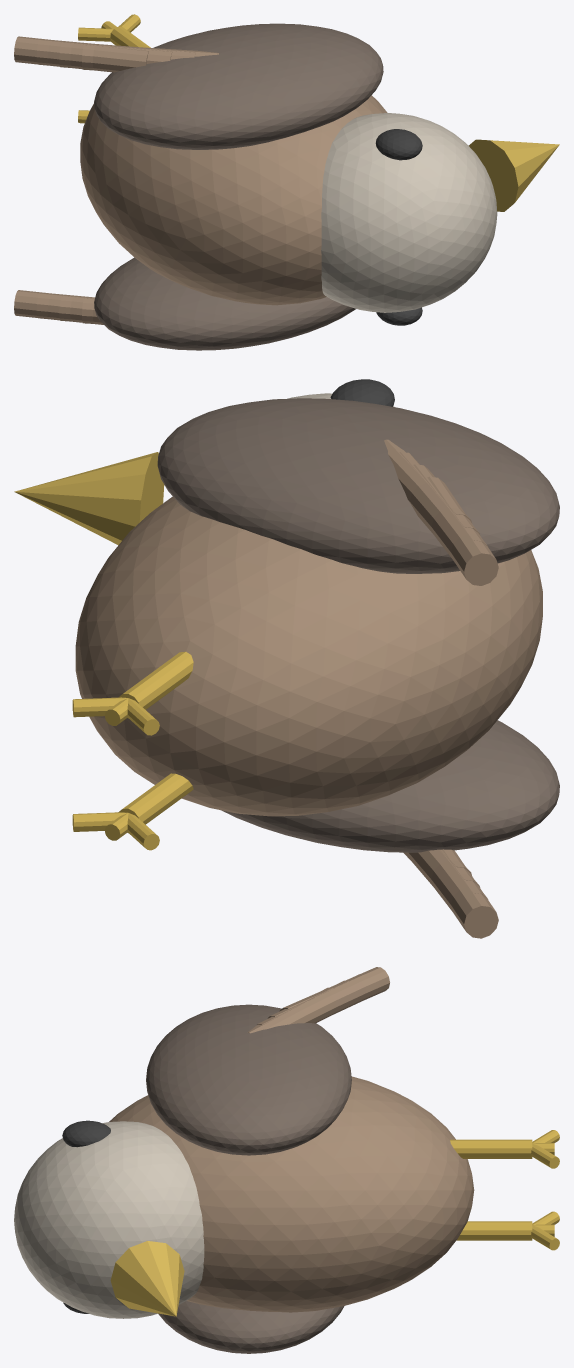
The model's file is hawk.glb.
3 renders of one model, top to bottom at view 1: azimuth 30°, elevation 25°; view 2: azimuth 150°, elevation 25°; view 3: azimuth 270°, elevation 25°, orthographic. The views are drawn at different scales.
Visible parts, largest first — view 1: world; view 2: world; view 3: world.
Part boxes in pixels (<box>): world: <box>14,14,559,350</box>; world: <box>14,379,559,938</box>; world: <box>14,967,559,1353</box>.
Size of the model in its own units: 1.59 by 0.94 by 1.7.
